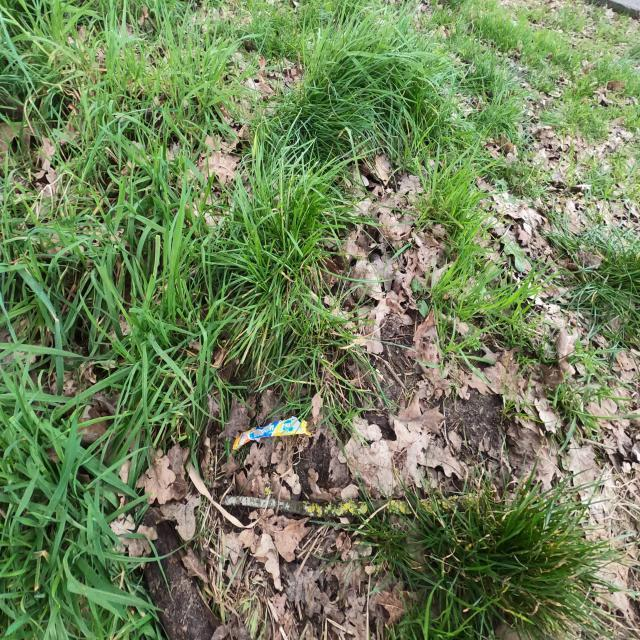Plastic: (232, 414, 312, 452)
